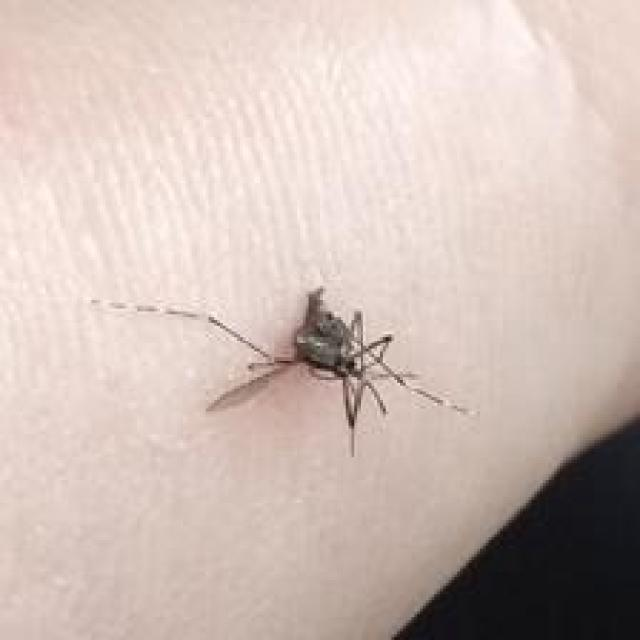Aedes albopictus: (89, 284, 477, 459)
